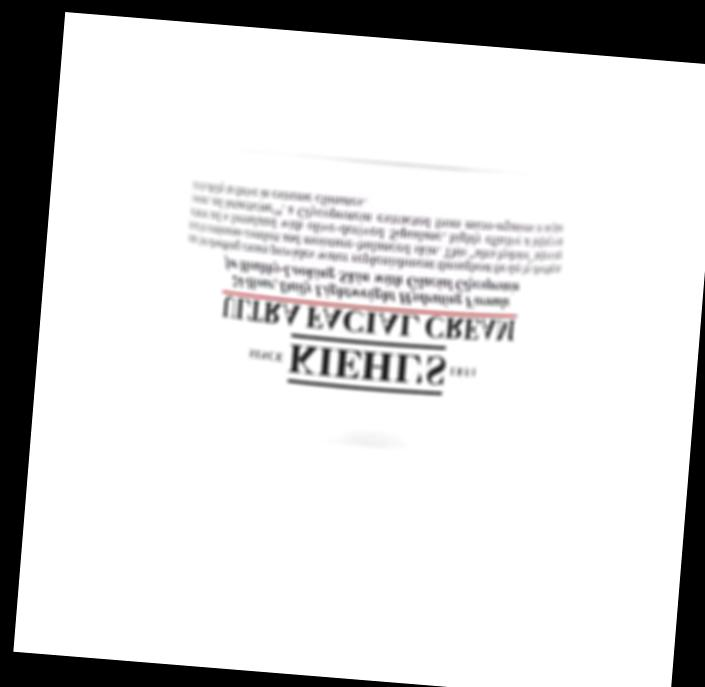cosmetic: (158, 143, 572, 496)
